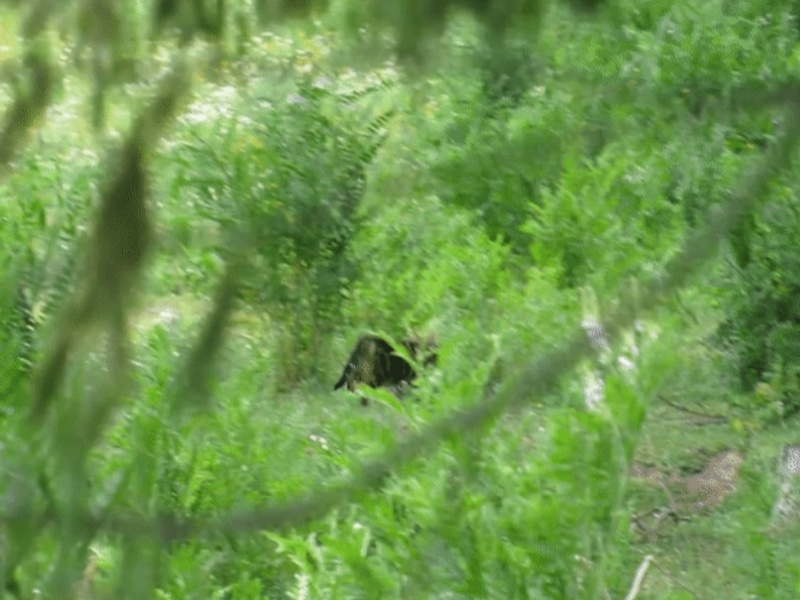cat: (336, 326, 443, 408)
